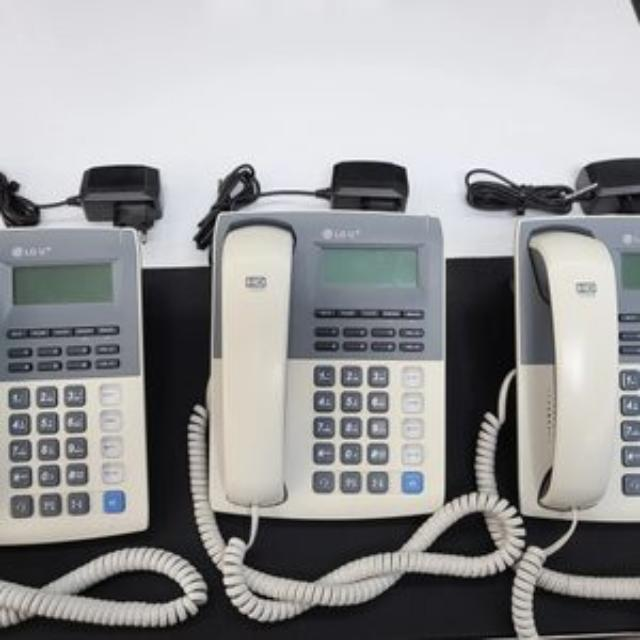Telephone-Set: (212, 212, 444, 518), (0, 226, 150, 544)
